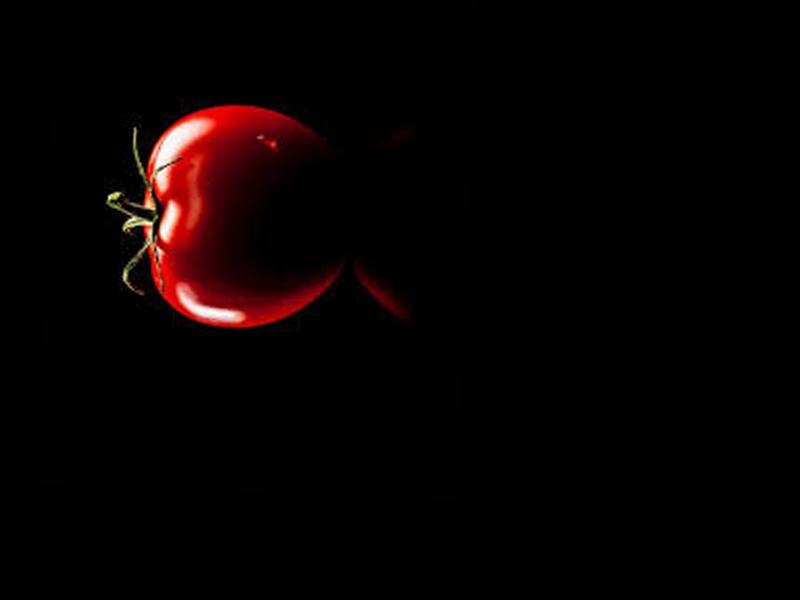Tomato: (133, 100, 344, 330)
